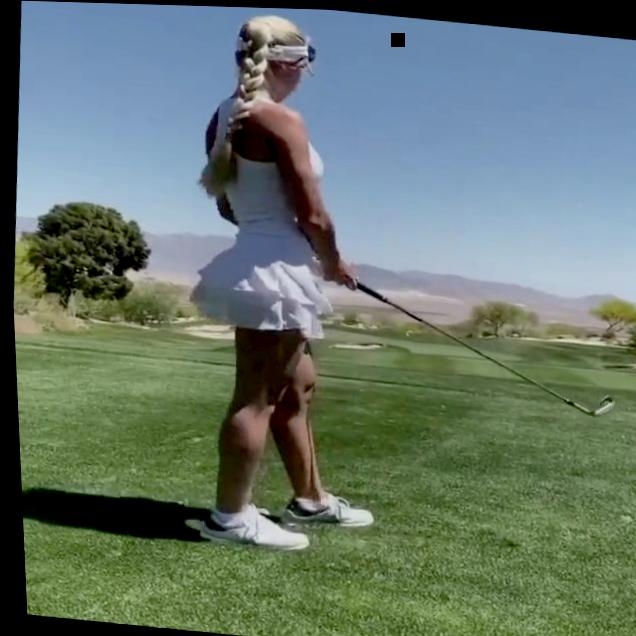ClubHead: (589, 392, 612, 415)
